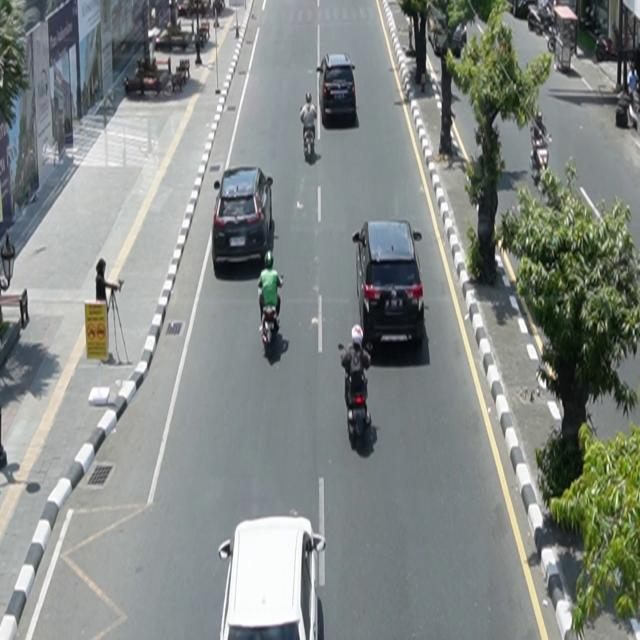car: (219, 512, 327, 640), (353, 219, 426, 348), (213, 166, 274, 269), (318, 53, 358, 121)
